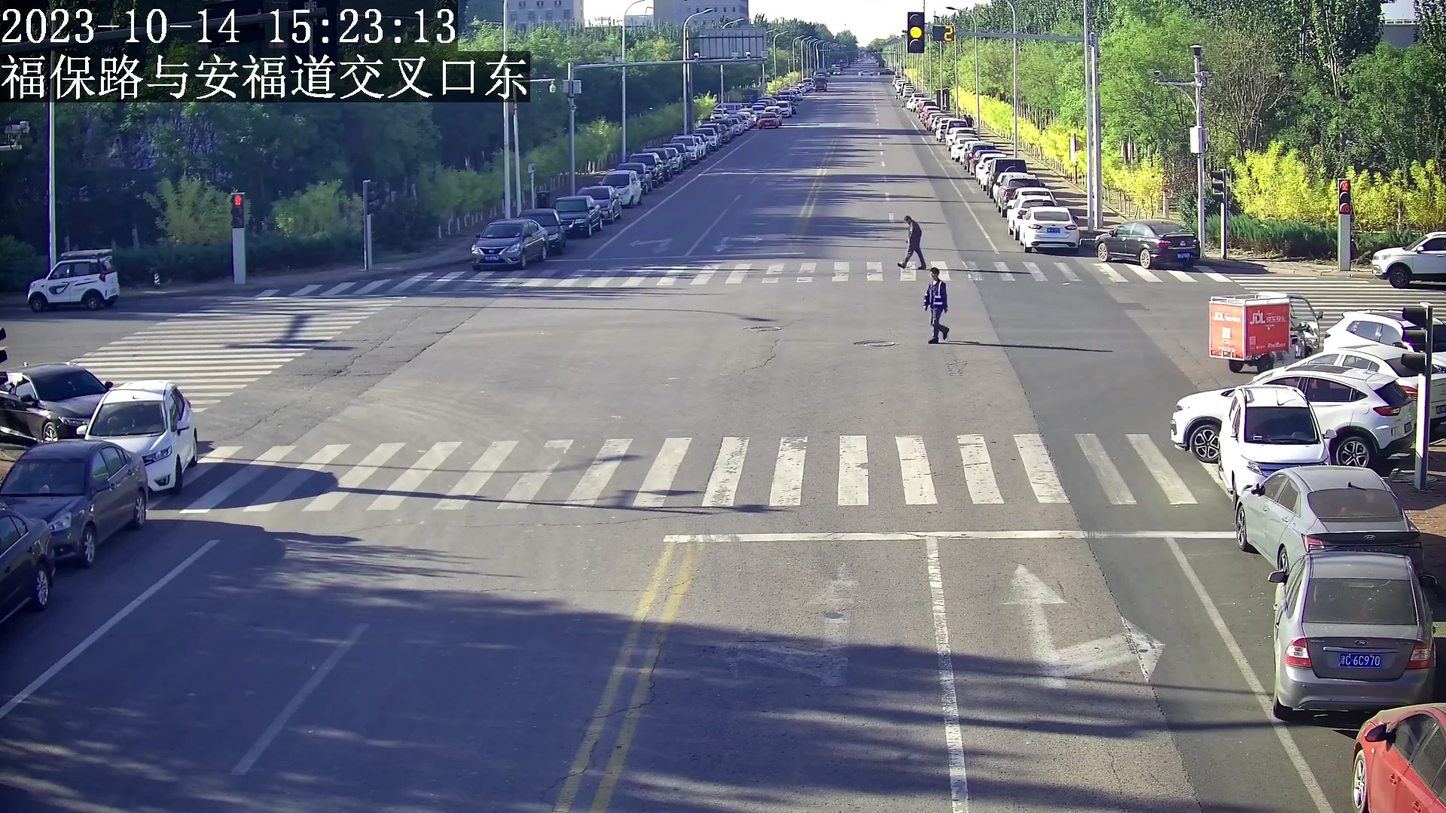person: (922, 265, 951, 347), (901, 214, 926, 270)
vehicle: (1267, 547, 1435, 714), (1170, 364, 1409, 467), (1234, 464, 1426, 582), (5, 440, 147, 562), (76, 380, 202, 492), (1219, 382, 1338, 495), (1348, 702, 1444, 812), (1207, 288, 1322, 370), (2, 360, 114, 442), (25, 246, 125, 309), (1097, 218, 1197, 269), (1368, 227, 1446, 286), (468, 217, 548, 266), (1017, 205, 1081, 249)
